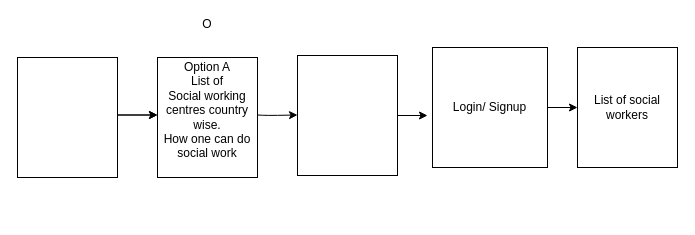
Some shapes in this 695 by 235 pixel diagram are drawn without their labels. The shapes that lost their labels are listed below. From the top down, each one's centre as x and y in pixels, then its label:
At point (67, 117): "Option A Social work OptionB Social services".
At point (347, 115): "Option B Quiestionarre for desired social workers of users".
